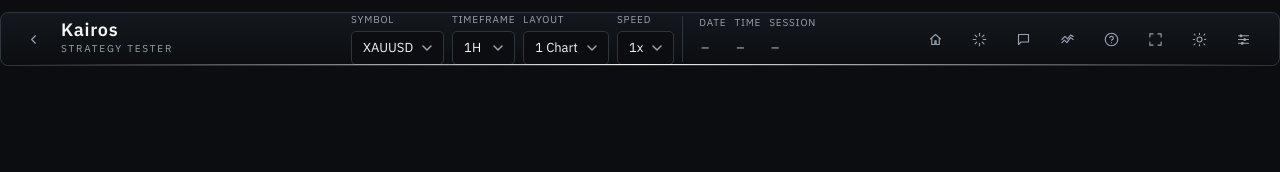
Challenger Stress Suite: Milestone 3 Header & Navigation Alignment › Adversarial Stress Dimension 2: Header button dimensions, icons and accessibility contracts › verifies TopBar session-chip has all 8 controls with ui-icon-btn-md and full screen toggle
The width and height of the screenshot is (1280, 172).
Later steps or results of the test are not shown.
Expected: the element with class "session-chip" is shown, x1=917 y1=21 x2=1261 y2=57
Expected: the 7th icon is shown, x1=1148 y1=32 x2=1162 y2=47
Step 1. Click the button named "Full screen (F)" → (1155, 39), box x1=1137 y1=21 x2=1173 y2=57
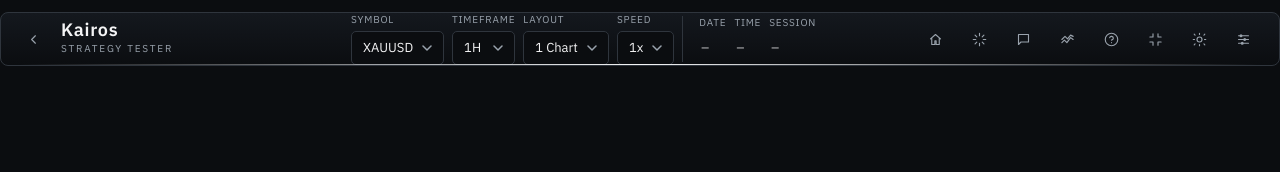
Expected: the button named "Exit full screen (F)" is shown, x1=1137 y1=21 x2=1173 y2=57
